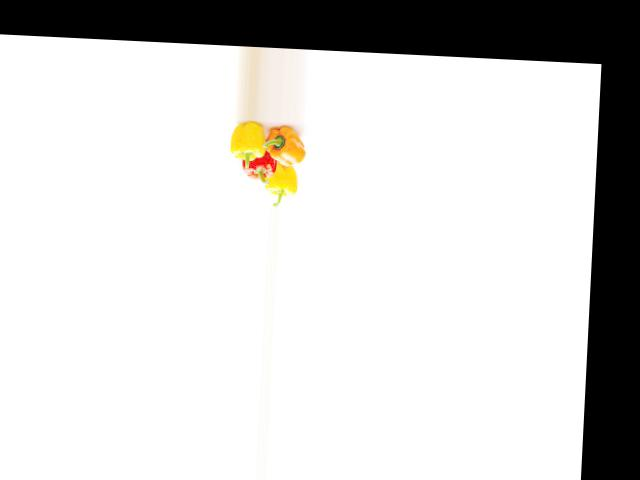bell_pepper: (228, 120, 276, 168)
